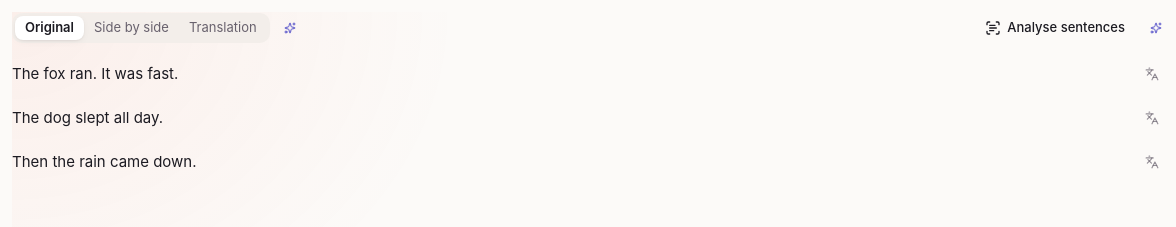
Scenario: ReadingView (ADR 0043 §4) › in the original, says when a paragraph's translation failed, and tries again
The image size is (1176, 227).
Click the button named "Translate this paragraph" in the row of "down": (1152, 162) [1140,150,1164,174]
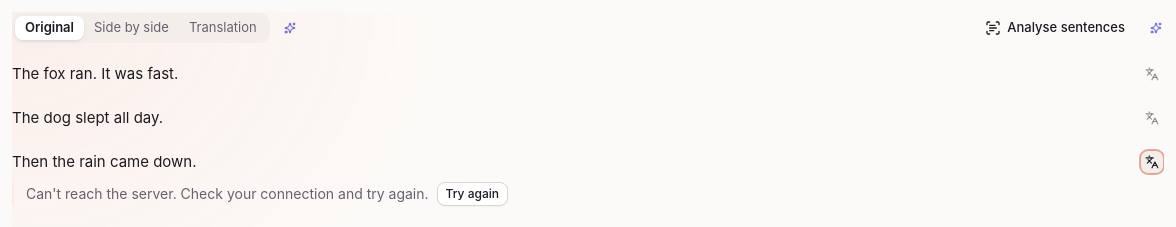
Click the button "Try again": (472, 194) [437,182,508,206]
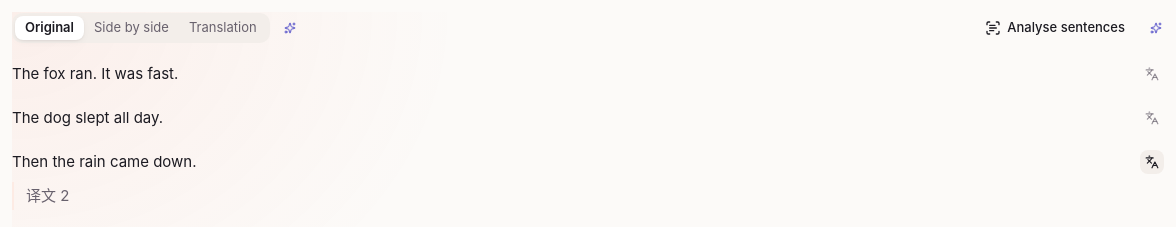
Result: the text "译文 2" is shown at [26,186,69,205]
